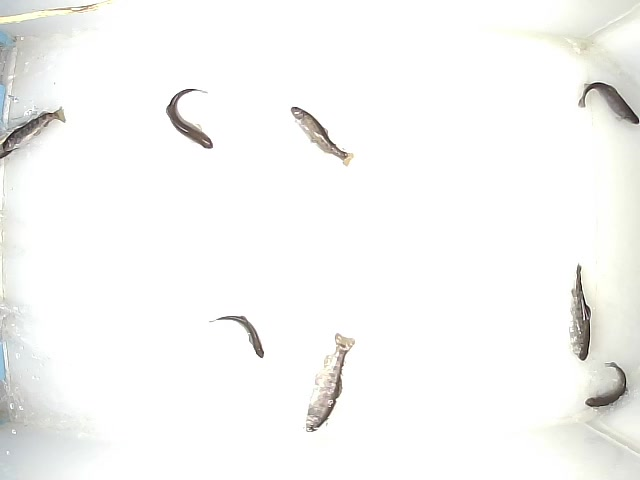fish: (299, 330, 359, 434), (288, 104, 354, 168), (1, 104, 68, 160), (577, 79, 639, 133), (564, 260, 595, 364), (165, 86, 211, 153), (207, 313, 266, 357), (586, 357, 630, 409)
